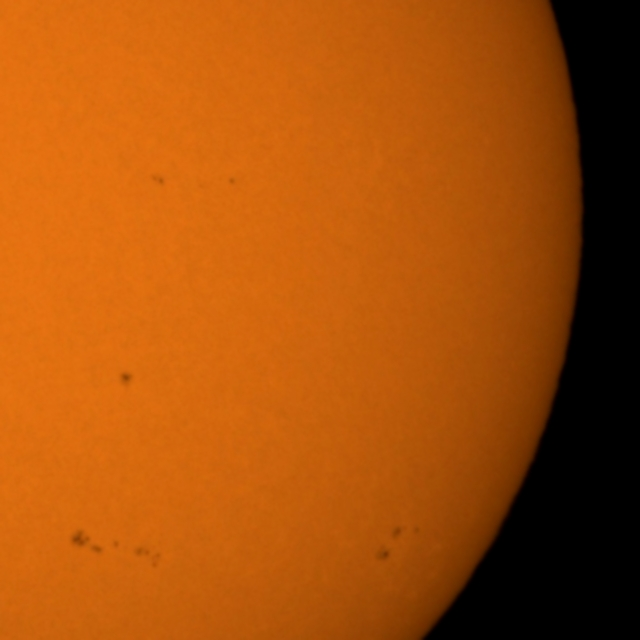sunspot: (372, 526, 408, 567), (68, 529, 122, 555), (131, 544, 164, 571), (387, 523, 422, 545), (117, 369, 136, 390), (148, 171, 167, 188), (226, 175, 238, 188)
